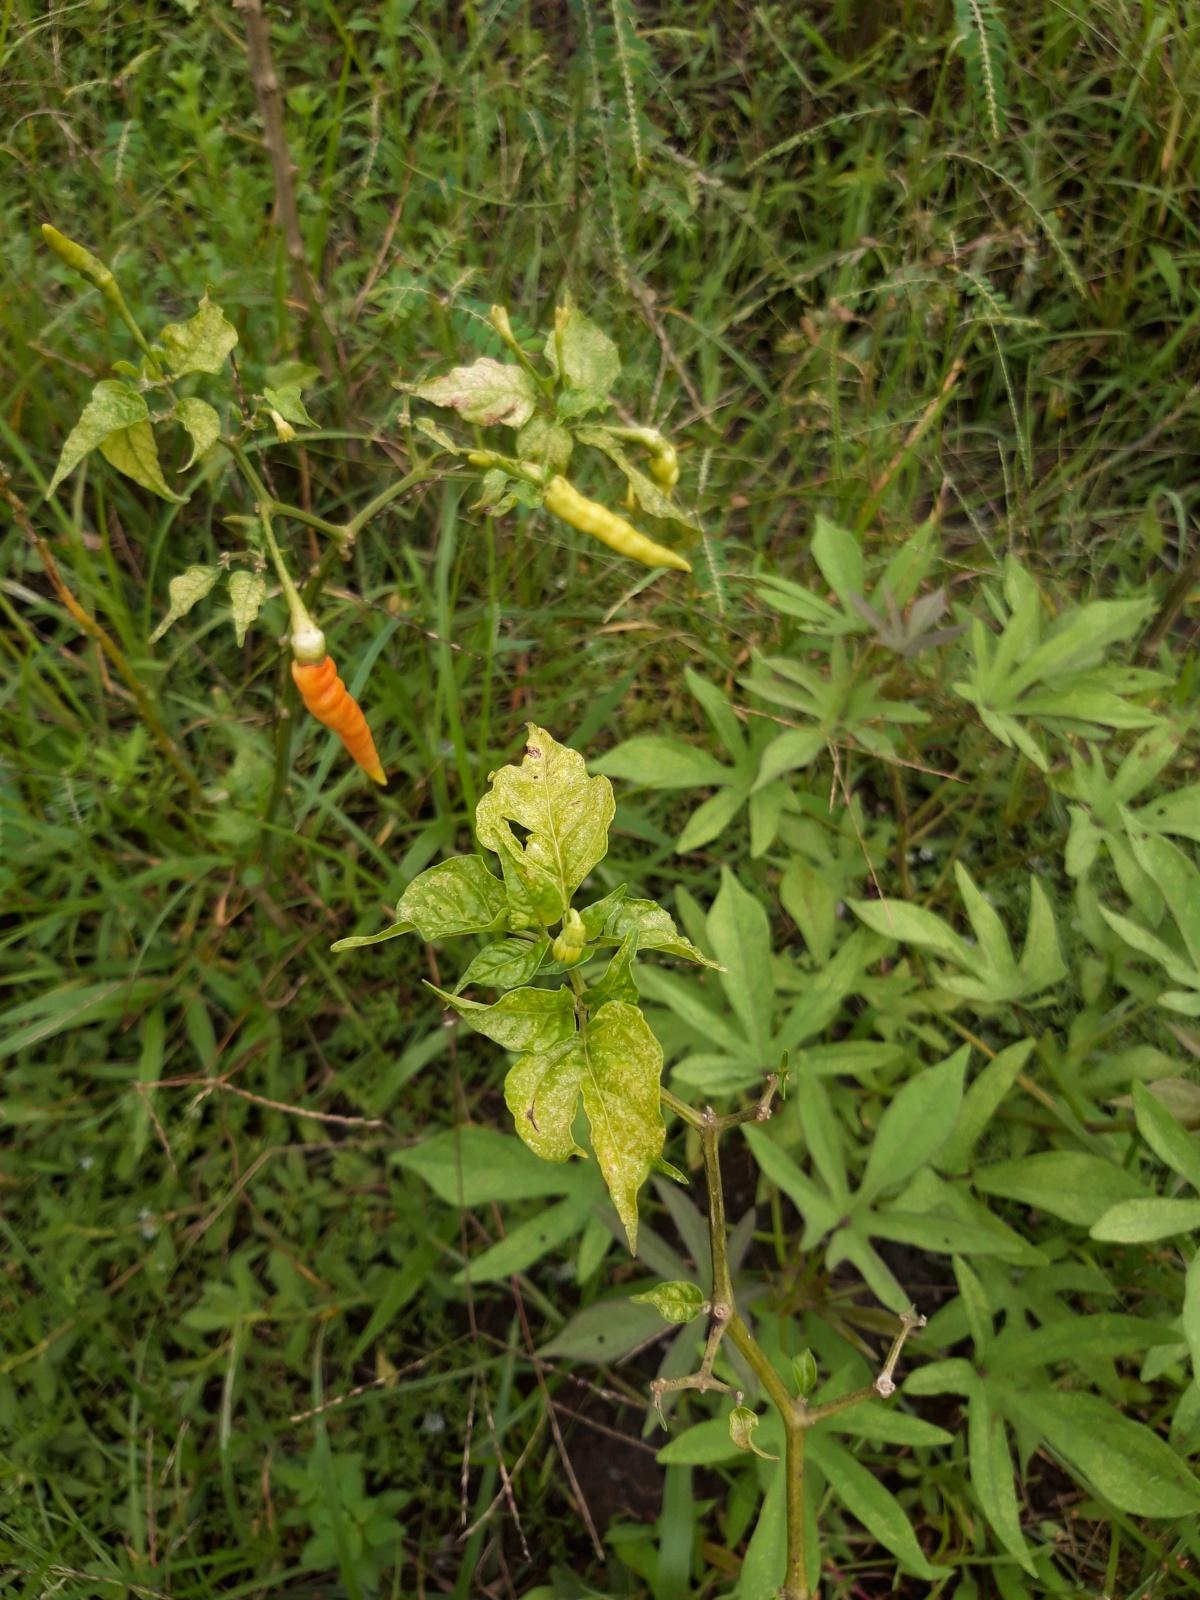cabai_normal: (547, 475, 692, 574), (291, 653, 392, 789), (649, 445, 679, 499)
